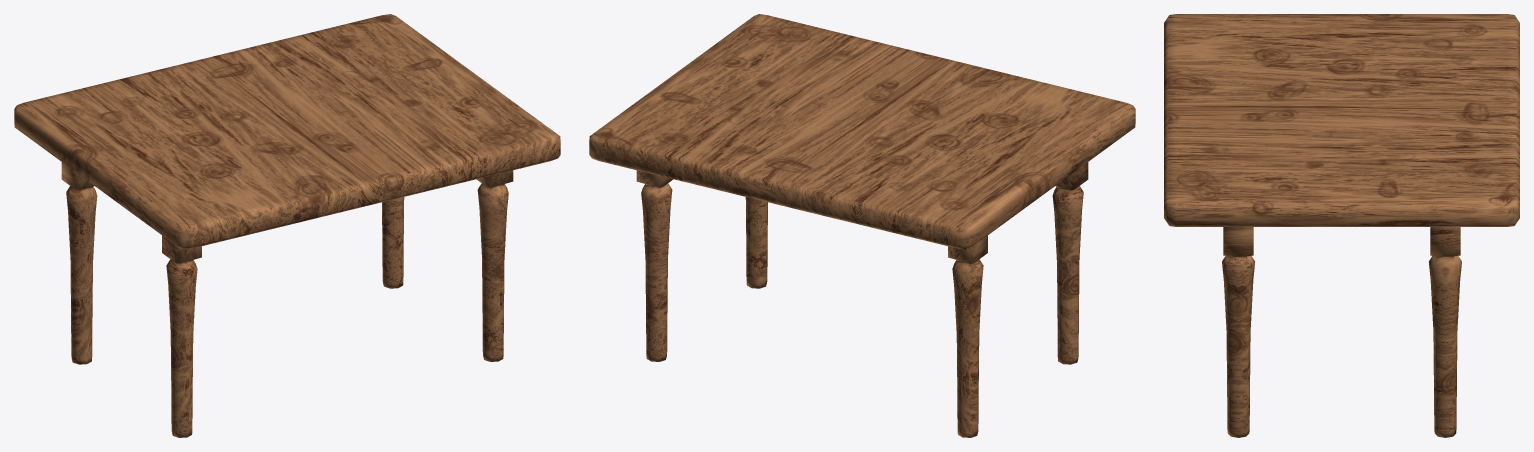
The model's file is table.dae.
The picture shows the model from 3 angles, left to right: view 1: azimuth 30°, elevation 25°; view 2: azimuth 150°, elevation 25°; view 3: azimuth 270°, elevation 25°; orthographic projection. The views are drawn at different scales.
Parts seen in each view (by area): view 1: Cube.001; view 2: Cube.001; view 3: Cube.001.
Part boxes in pixels (x1,y1,x2,y2): Cube.001: [14, 14, 560, 437]; Cube.001: [589, 14, 1135, 437]; Cube.001: [1164, 14, 1519, 437].
Size of the model in its own units: 1.57 by 1.22 by 0.9307.
